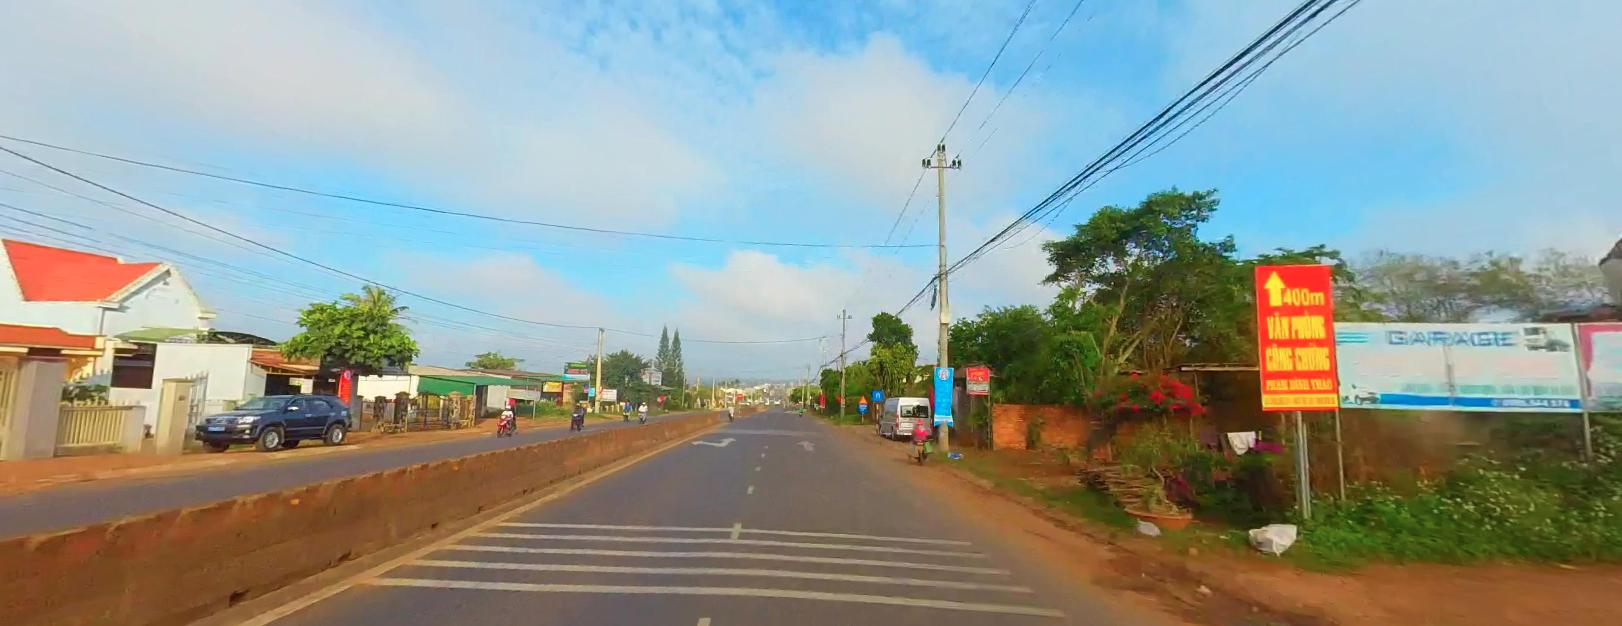Cam nguoc chieu: (735, 392, 743, 398)
Nguy hiem: (858, 394, 867, 403)
